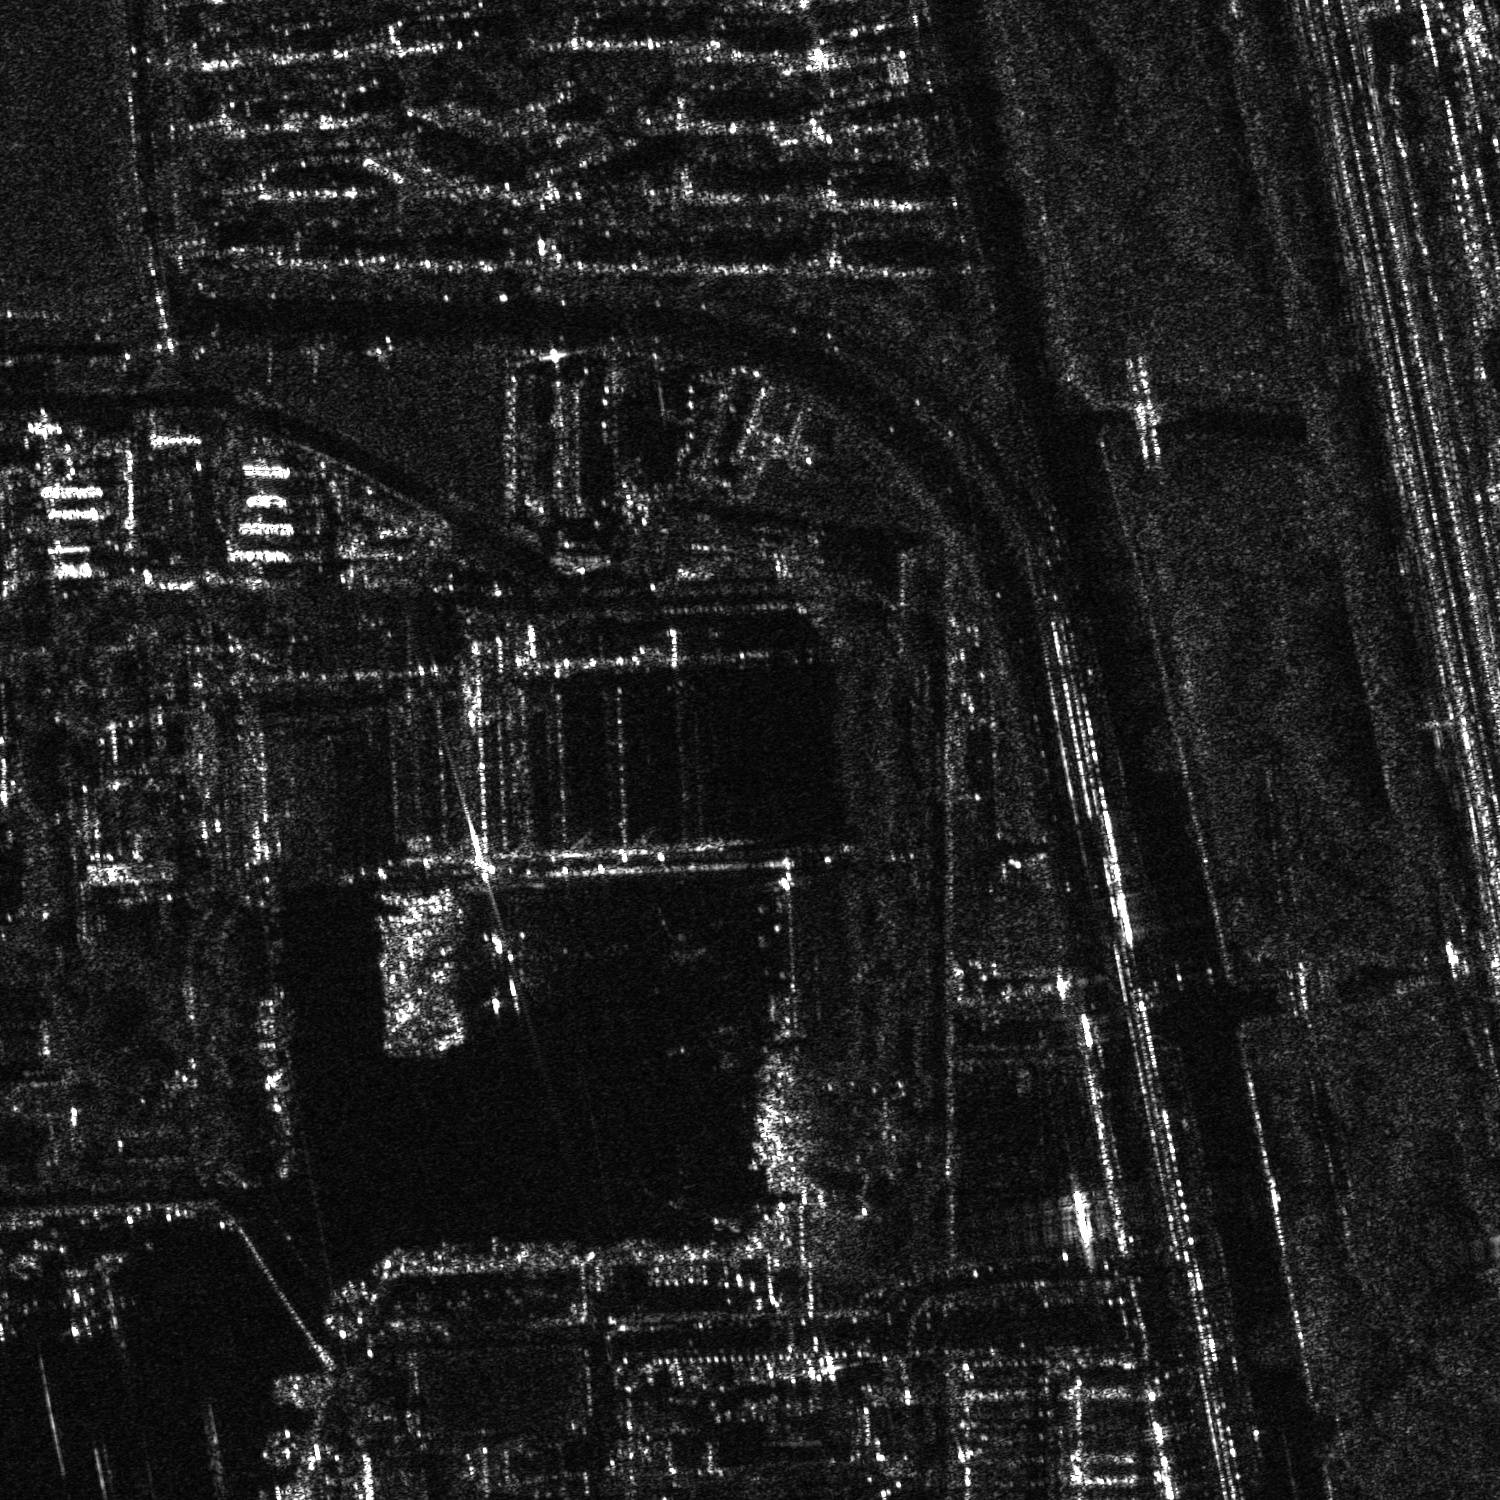Boeing737: (473, 926, 551, 1016), (49, 1264, 118, 1343)
other: (609, 907, 712, 995)
